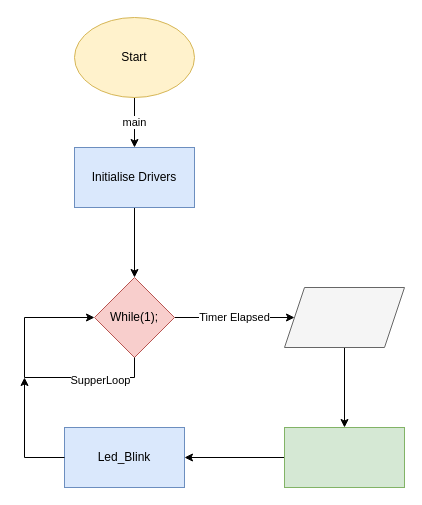
Some shapes in this 422 by 505 pixel diagram are drawn without their labels. Here are the shapes that lost their labels. From the top down, the box of each, then its label:
(284, 286, 404, 348): Timer Interrupt
(284, 426, 404, 488): ISR call callback function
